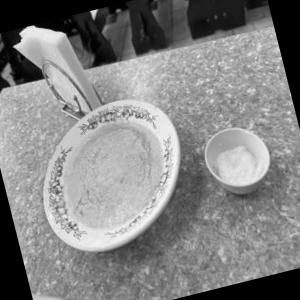porridge: (1, 74, 204, 264)
